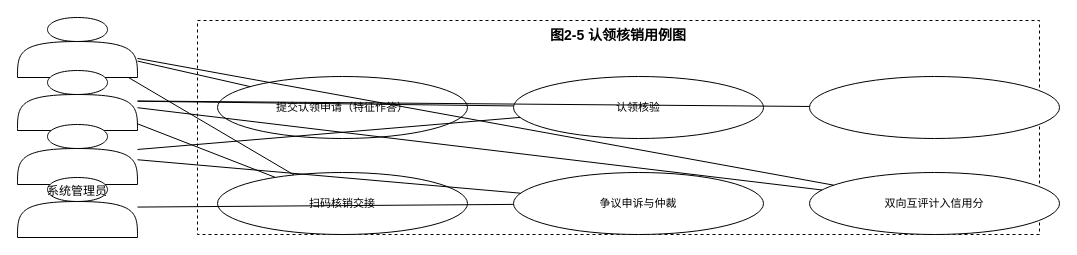
Some shapes in this 1077 by 255 pixel diagram are drawn without their labels. Each missing label, with the centre of its shape:
失主: point 77,47
拾获者: point 77,100
生成一次性交接核销码: point 934,107
认领审核员: point 77,154
